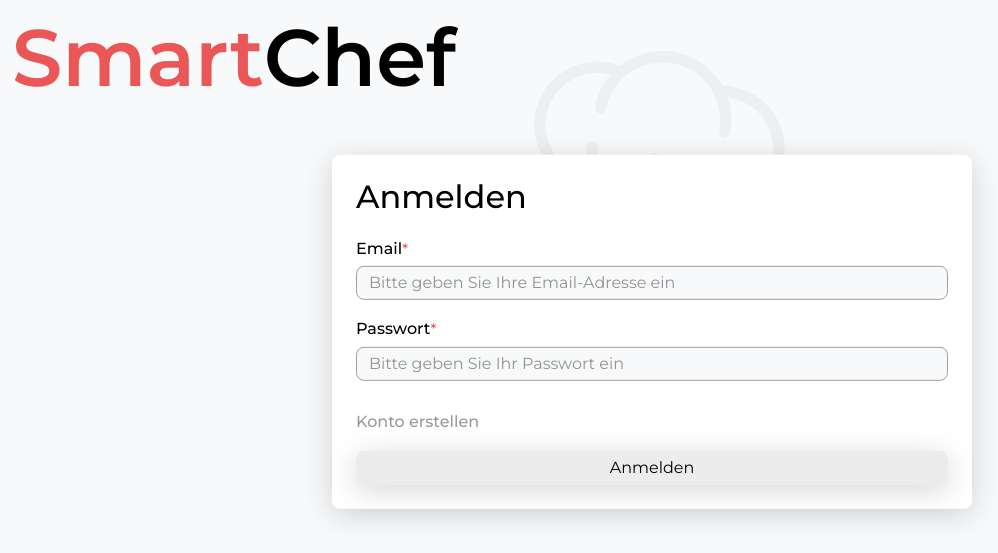
Login page › Should make sure the email input is not empty
Step 1. Focus the field named "email" → (652, 283), box [356, 266, 948, 300]
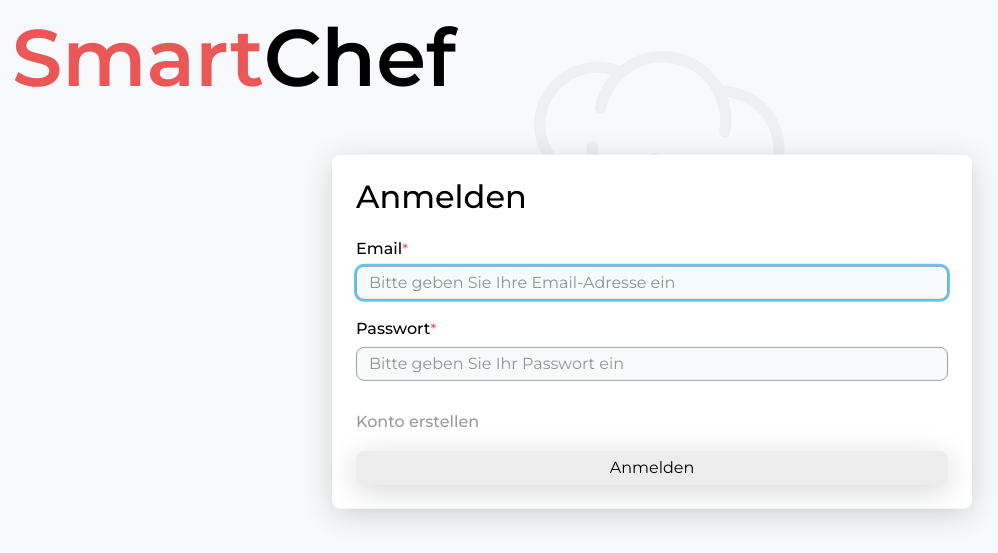
Step 2. Leave the field named "email", box [356, 266, 948, 300]
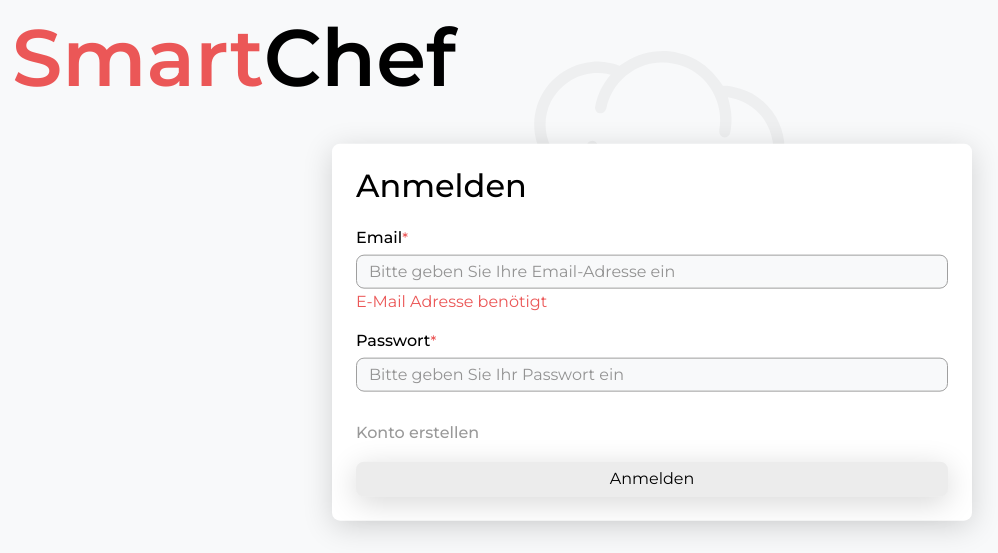
Expected: the submit button is disabled, [356, 462, 948, 496]
Expected: the text "E-Mail Adresse benötigt" is shown, [356, 292, 547, 311]
